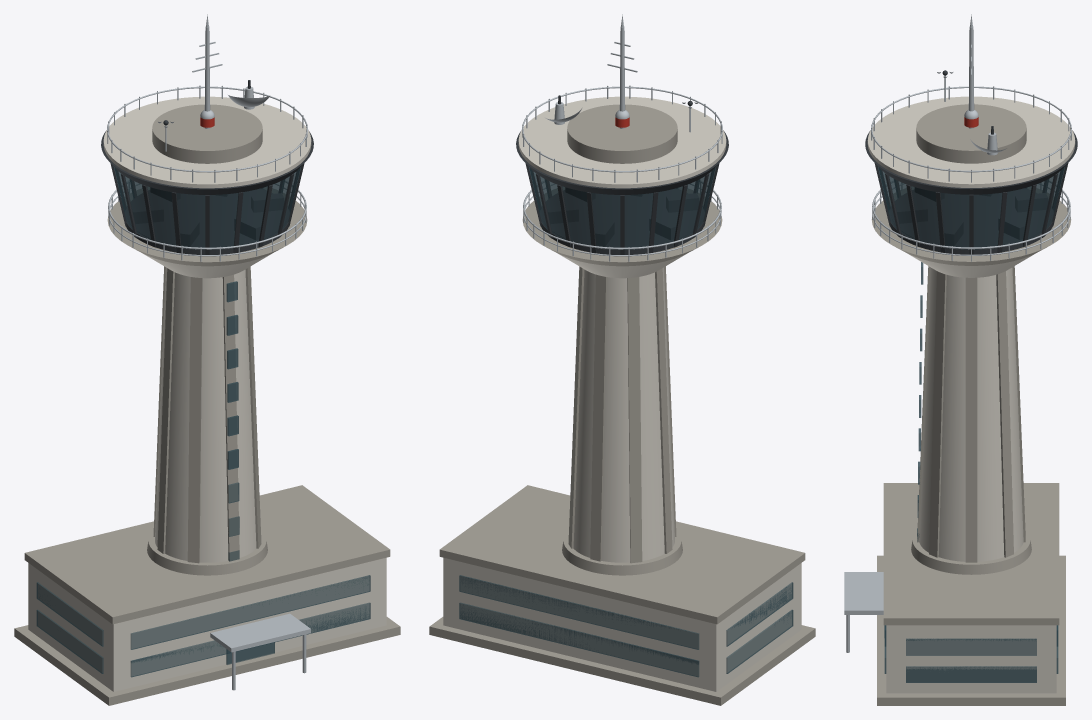
File: control-tower.glb
3 renders of one model, left to right at view 1: azimuth 30°, elevation 25°; view 2: azimuth 150°, elevation 25°; view 3: azimuth 270°, elevation 25°, orthographic.
Parts seen in each view (by area): view 1: base_block, base_parapet, shaft, roof_slab, cab_glazing, base_plinth, roof_plant, cab_floor, base_glazing_n_1, shaft_rib_3, shaft_rib_2, base_glazing_n_0 (+13 smaller); view 2: base_block, base_parapet, shaft, roof_slab, cab_glazing, base_plinth, roof_plant, cab_floor, base_glazing_s_1, base_glazing_s_0, shaft_rib_5, shaft_rib_6 (+12 smaller); view 3: shaft, base_parapet, base_block, roof_slab, cab_glazing, roof_plant, cab_floor, base_plinth, shaft_rib_0, shaft_rib_1, shaft_rib_7, gallery_deck (+17 smaller).
Boxes of the visible parts, left/top/right/bottom form: base_block: left=28, top=557, right=386, bottom=691; base_parapet: left=24, top=485, right=390, bottom=624; shaft: left=155, top=267, right=256, bottom=562; roof_slab: left=103, top=96, right=311, bottom=188; cab_glazing: left=113, top=166, right=301, bottom=249; base_plinth: left=14, top=617, right=400, bottom=705; roof_plant: left=152, top=104, right=262, bottom=163; cab_floor: left=127, top=189, right=287, bottom=247; base_glazing_n_1: left=130, top=575, right=370, bottom=649; shaft_rib_3: left=187, top=277, right=202, bottom=563; shaft_rib_2: left=222, top=274, right=239, bottom=561; base_glazing_n_0: left=130, top=602, right=370, bottom=677; base_block: left=443, top=557, right=801, bottom=691; base_parapet: left=439, top=485, right=805, bottom=624; shaft: left=573, top=267, right=674, bottom=562; roof_slab: left=518, top=96, right=726, bottom=188; cab_glazing: left=528, top=166, right=716, bottom=249; base_plinth: left=429, top=617, right=815, bottom=705; roof_plant: left=567, top=104, right=677, bottom=163; cab_floor: left=542, top=189, right=702, bottom=247; base_glazing_s_1: left=459, top=575, right=699, bottom=649; base_glazing_s_0: left=459, top=602, right=699, bottom=677; shaft_rib_5: left=627, top=277, right=642, bottom=563; shaft_rib_6: left=590, top=274, right=607, bottom=561; shaft: left=919, top=267, right=1023, bottom=561; base_parapet: left=883, top=483, right=1059, bottom=625; base_block: left=886, top=625, right=1056, bottom=693; roof_slab: left=867, top=96, right=1075, bottom=187; cab_glazing: left=877, top=166, right=1065, bottom=249; roof_plant: left=916, top=104, right=1026, bottom=163; cab_floor: left=891, top=188, right=1051, bottom=247; base_plinth: left=877, top=555, right=1065, bottom=705; shaft_rib_0: left=965, top=277, right=977, bottom=562; shaft_rib_1: left=929, top=271, right=946, bottom=557; shaft_rib_7: left=996, top=271, right=1013, bottom=557; gallery_deck: left=871, top=187, right=1071, bottom=265.
Size of the model in its own units: 25.6 by 52.2 by 17.8.
